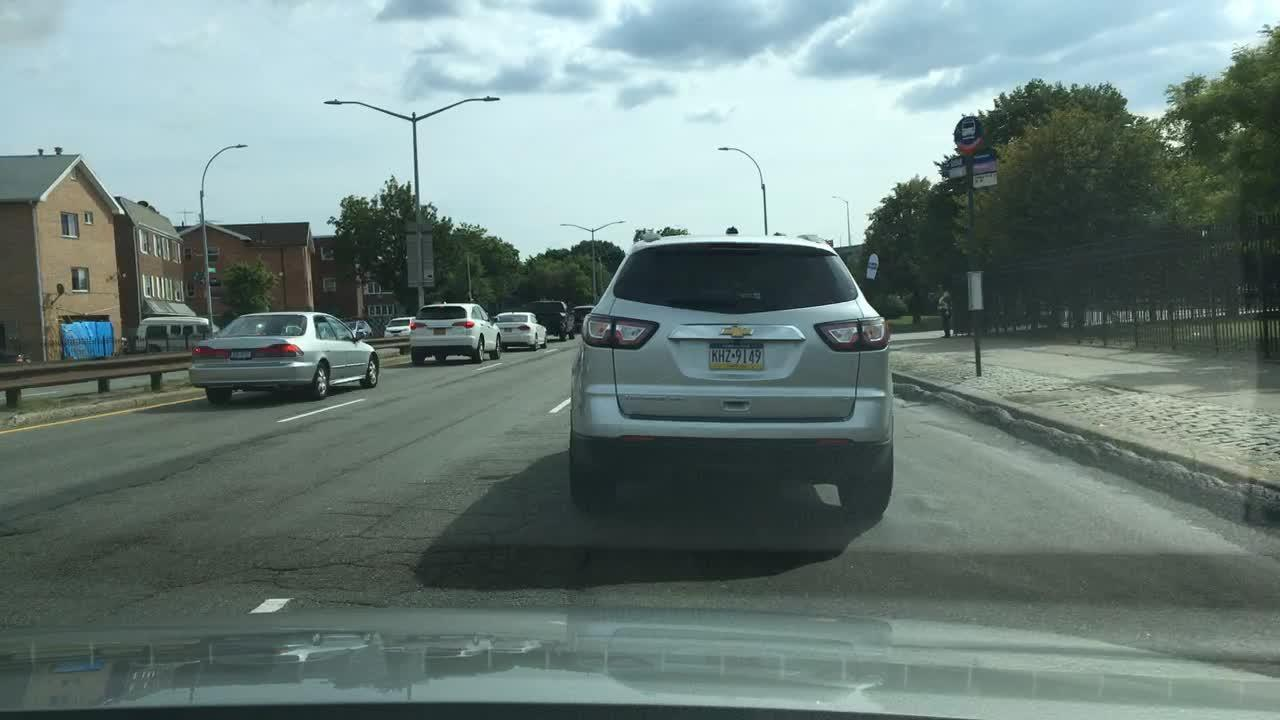chevrolet: (700, 318, 772, 342)
